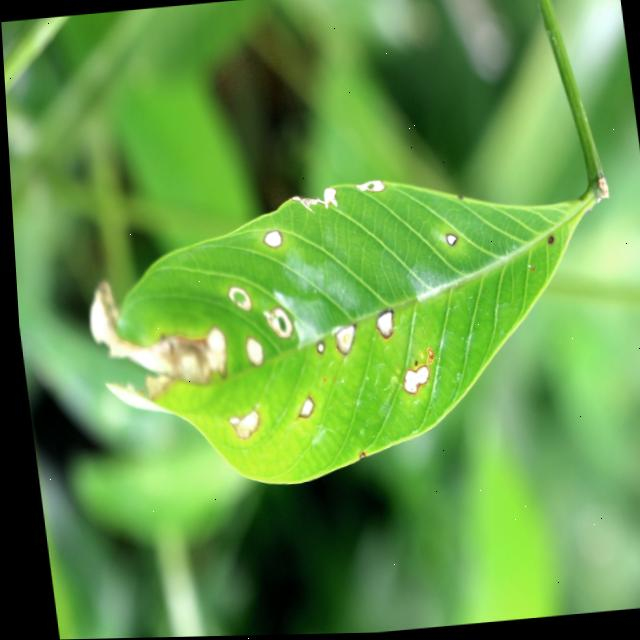Colletotrichum: (329, 325, 354, 357), (370, 310, 392, 343), (290, 395, 311, 421), (258, 230, 280, 250), (442, 235, 455, 248), (310, 341, 322, 355), (422, 349, 429, 359), (544, 239, 551, 247), (409, 362, 413, 368)
Leaf-Blight: (79, 271, 229, 412)
